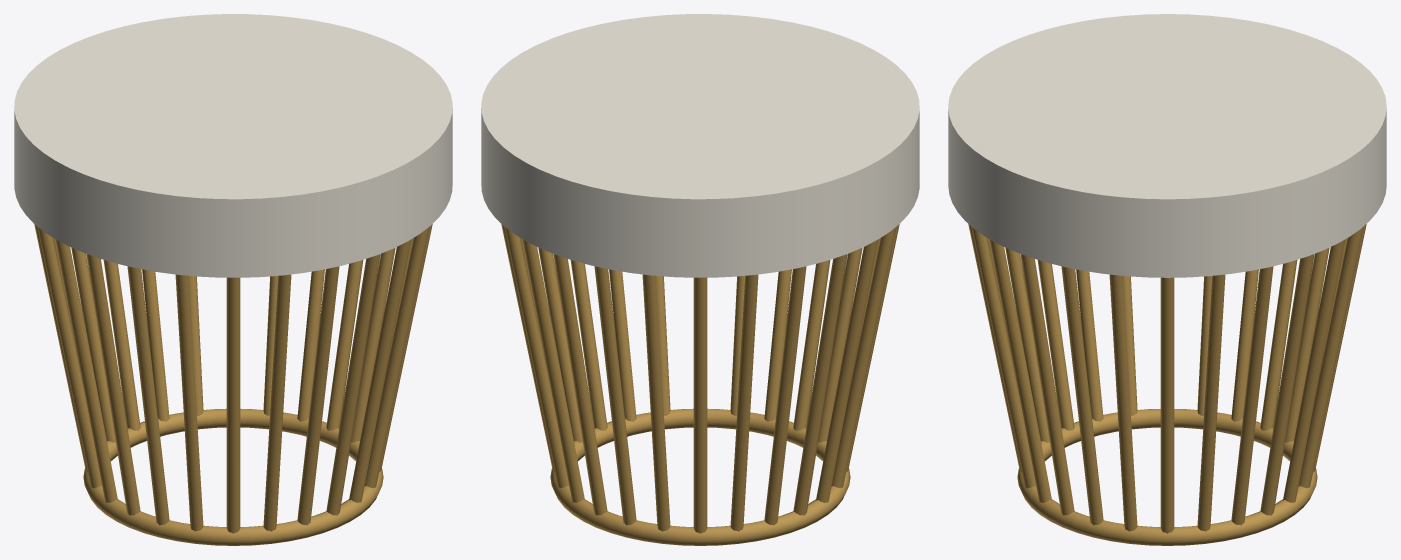
File: wh-gold-lined-pouffe.glb
3 views of the same model, side by side, from view 1: azimuth 30°, elevation 25°; view 2: azimuth 150°, elevation 25°; view 3: azimuth 270°, elevation 25° (orthographic).
Visible parts, largest first — view 1: Seat cushion.001, Gold basket upright.024; view 2: Seat cushion.001, Gold basket upright.024; view 3: Seat cushion.001, Gold basket upright.024.
Part boxes in pixels (bbox=[...]): Seat cushion.001: bbox=[14, 14, 452, 277]; Gold basket upright.024: bbox=[34, 224, 432, 545]; Seat cushion.001: bbox=[481, 14, 919, 277]; Gold basket upright.024: bbox=[501, 224, 899, 545]; Seat cushion.001: bbox=[948, 14, 1386, 277]; Gold basket upright.024: bbox=[968, 224, 1366, 545].
Bounding box in the file's own units: 0.45 × 0.43 × 0.45.
